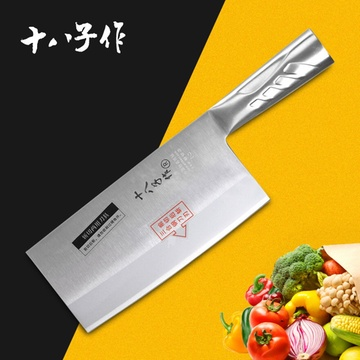knief: (36, 35, 335, 320)
